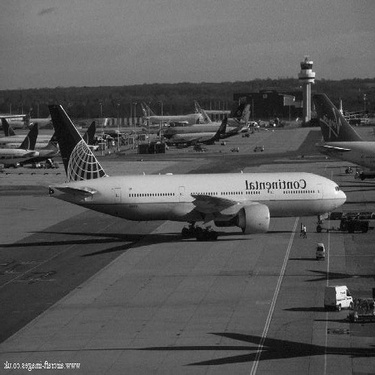airplane: (15, 77, 356, 244)
